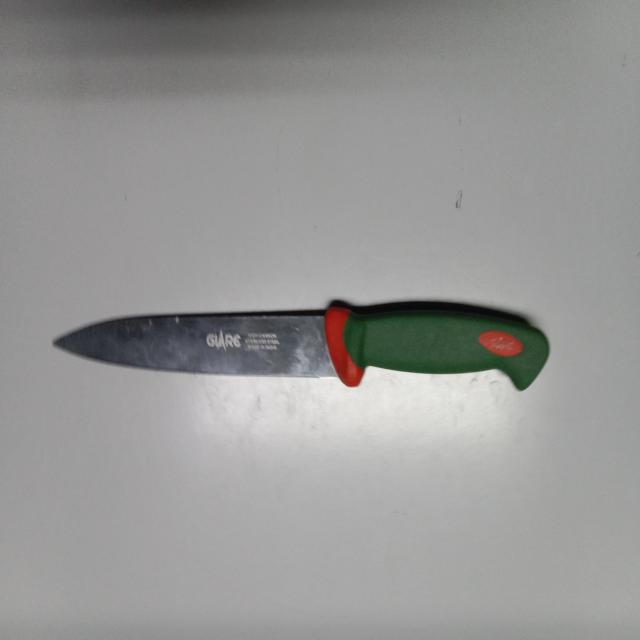Knife: (55, 302, 550, 390)
